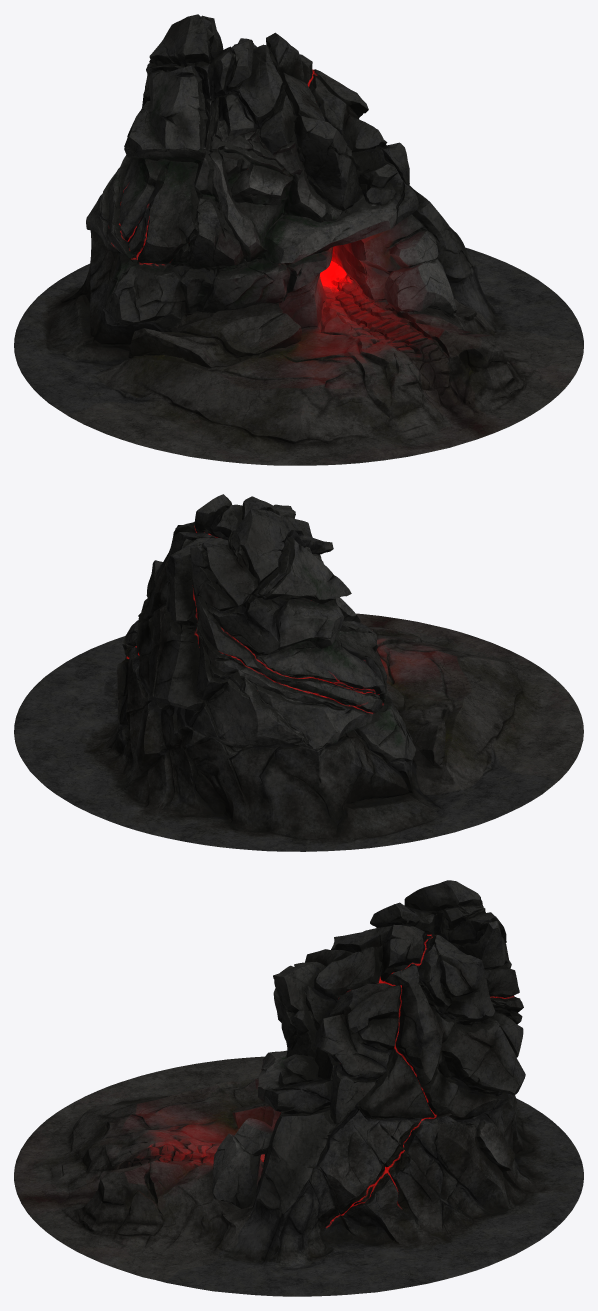
Rendered from cave.glb.
The picture shows the model from 3 angles, top to bottom: view 1: azimuth 30°, elevation 25°; view 2: azimuth 150°, elevation 25°; view 3: azimuth 270°, elevation 25°; orthographic projection.
Parts seen in each view (by area): view 1: mountains; view 2: mountains; view 3: mountains.
Part boxes in pixels (x1,y1,x2,y2): mountains: (14, 14, 583, 465); mountains: (14, 494, 583, 851); mountains: (14, 880, 583, 1296).
Size of the model in its own units: 1101 by 612 by 1101.
5 materials, 5 textured.
